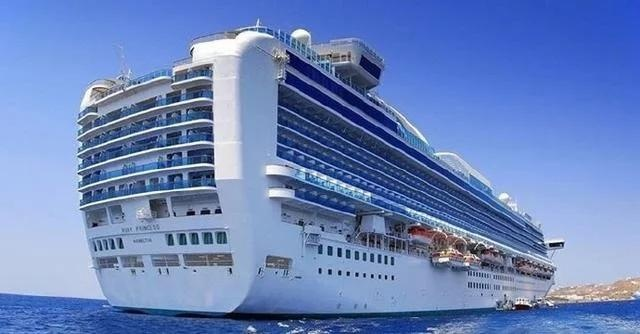youlun: (81, 24, 562, 313)
